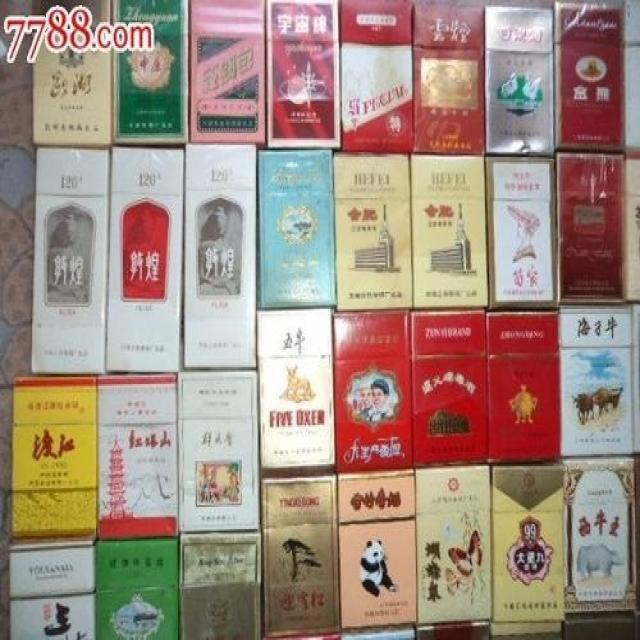box: (105, 143, 188, 374), (31, 147, 111, 374), (183, 142, 256, 370), (9, 375, 99, 543), (178, 367, 260, 534), (97, 372, 178, 541), (256, 307, 335, 473), (260, 471, 339, 637), (333, 311, 413, 473), (337, 468, 416, 631), (256, 148, 335, 309), (334, 150, 412, 311), (415, 464, 492, 625), (562, 454, 639, 614), (412, 152, 489, 309), (412, 309, 488, 468), (31, 0, 113, 147), (188, 0, 266, 150), (492, 463, 566, 621), (558, 304, 634, 457), (413, 0, 488, 155), (111, 0, 189, 147), (265, 0, 340, 150), (339, 0, 413, 152), (488, 309, 559, 464), (553, 2, 626, 152), (556, 152, 626, 307), (486, 155, 557, 307), (486, 5, 554, 155), (178, 532, 261, 640), (95, 538, 179, 640), (9, 541, 95, 640), (625, 150, 640, 302), (626, 0, 640, 152), (563, 611, 639, 638), (416, 621, 489, 640), (489, 621, 562, 638), (340, 625, 416, 640), (262, 633, 340, 640)
